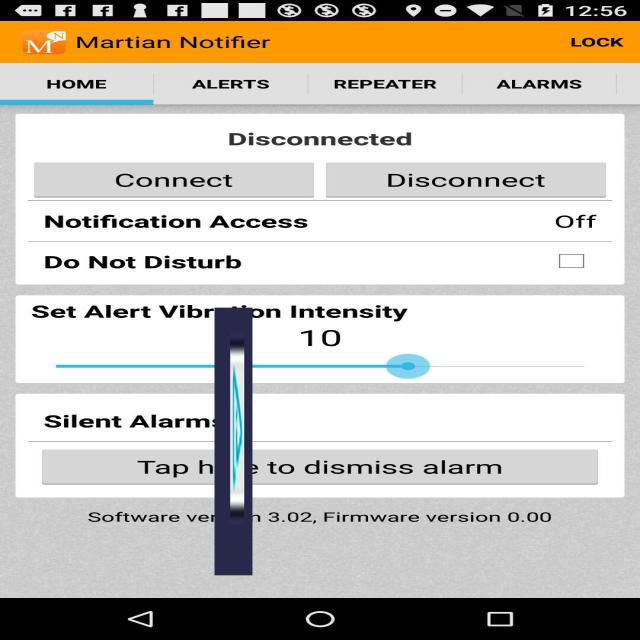sneaking: (215, 308, 252, 575)
